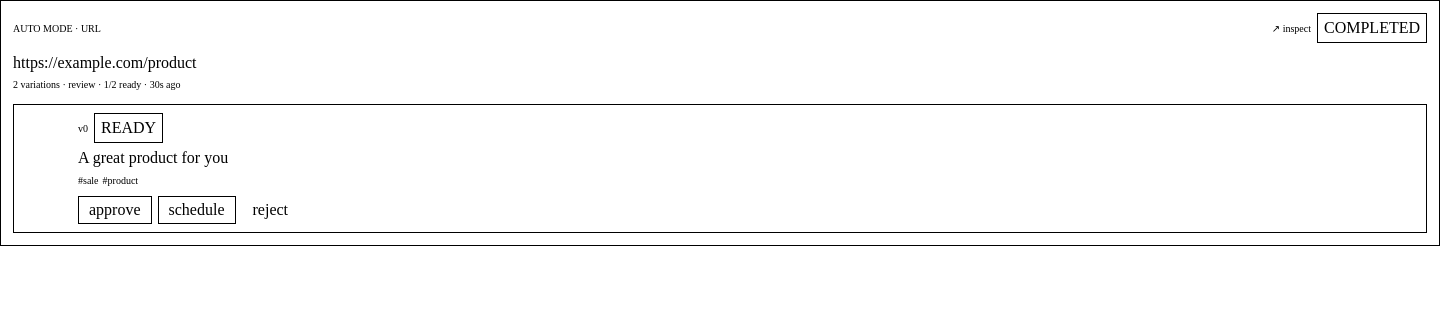
AutoModePanel · schedule picker › reveals a datetime input + confirm button when "schedule" is clicked
What coordinates should you click on to do the following:
click the button "schedule"
I would click on:
 (196, 210)
Its box is [158,196,236,224].
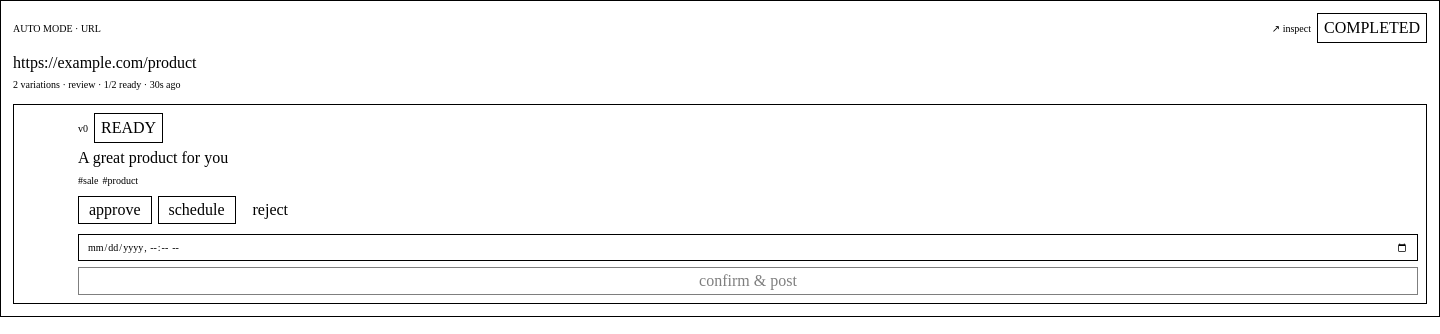
Expected: the button "confirm & post" is shown, [78,267,1418,295]
